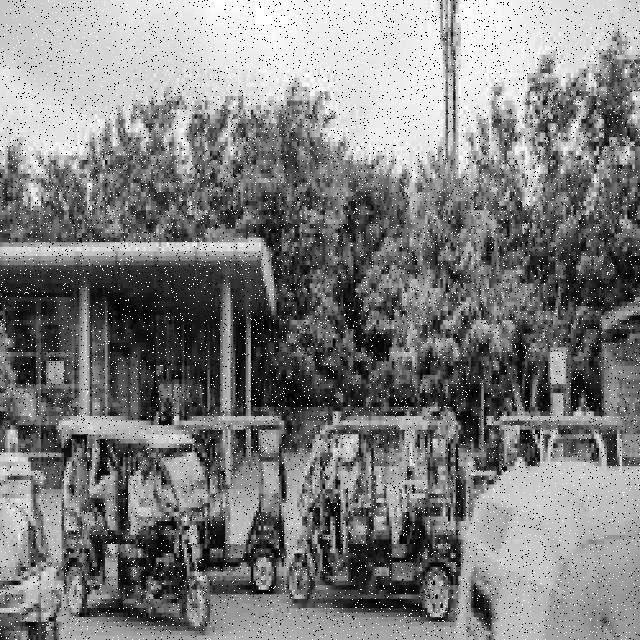Toto: (286, 418, 458, 621), (62, 415, 215, 635)
